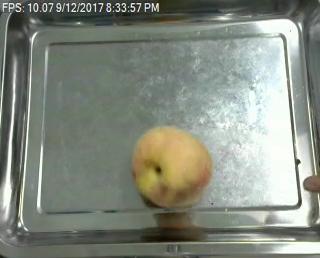Peach: (132, 125, 213, 208)
